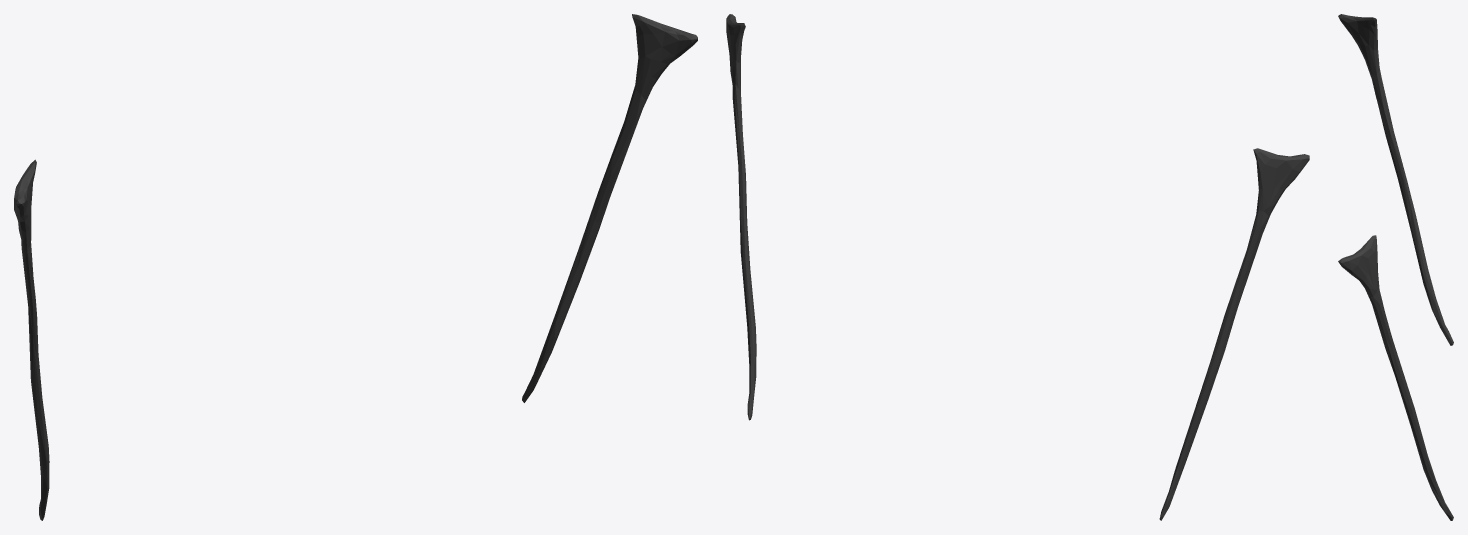
File: tendon_tarsal_biceps.glb
The picture shows the model from 3 angles, left to right: view 1: azimuth 30°, elevation 25°; view 2: azimuth 150°, elevation 25°; view 3: azimuth 270°, elevation 25°; orthographic projection. The views are drawn at different scales.
Visible parts, largest first — view 1: tendon_tarsal_biceps; view 2: tendon_tarsal_biceps; view 3: tendon_tarsal_biceps.
Part boxes in pixels (x1,y1,x2,y2): tendon_tarsal_biceps: (14, 14, 697, 520); tendon_tarsal_biceps: (726, 14, 1309, 520); tendon_tarsal_biceps: (1338, 14, 1453, 520).
Bounding box in the file's own units: 0.00703 × 0.00406 × 0.00139.
1 material, 1 textured.
